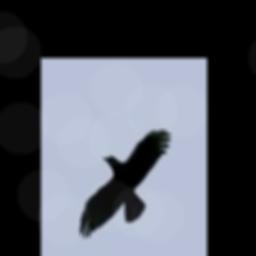Crow: (79, 129, 171, 239)
